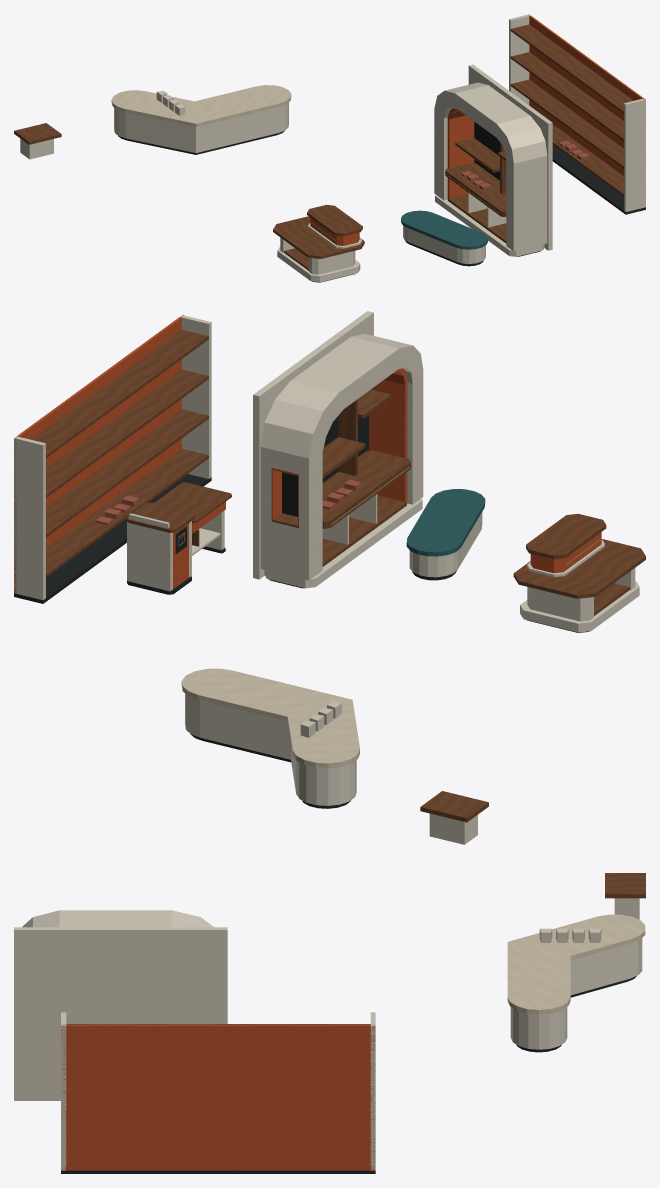
The model's file is SHOP_D09_P72_A184__fitout.glb.
The picture shows the model from 3 angles, top to bottom: view 1: azimuth 30°, elevation 25°; view 2: azimuth 150°, elevation 25°; view 3: azimuth 270°, elevation 25°; orthographic projection. The views are drawn at different scales.
Visible parts, largest first — view 1: SHOP_D09_P72_A184__fitout__ivory_enamel, SHOP_D09_P72_A184__fitout__warm_walnut, SHOP_D09_P72_A184__fitout__retail_terracotta_enamel, SHOP_D09_P72_A184__fitout__warm_stone, SHOP_D09_P72_A184__fitout__dark_rubber, SHOP_D09_P72_A184__fitout__teal_weave, SHOP_D09_P72_A184__fitout__clay_weave; view 2: SHOP_D09_P72_A184__fitout__ivory_enamel, SHOP_D09_P72_A184__fitout__warm_walnut, SHOP_D09_P72_A184__fitout__retail_terracotta_enamel, SHOP_D09_P72_A184__fitout__warm_stone, SHOP_D09_P72_A184__fitout__dark_rubber, SHOP_D09_P72_A184__fitout__teal_weave, SHOP_D09_P72_A184__fitout__clay_weave; view 3: SHOP_D09_P72_A184__fitout__retail_terracotta_enamel, SHOP_D09_P72_A184__fitout__ivory_enamel, SHOP_D09_P72_A184__fitout__warm_stone, SHOP_D09_P72_A184__fitout__dark_rubber, SHOP_D09_P72_A184__fitout__warm_walnut.
Boxes of the visible parts, x1,y1,x2,y2 form: SHOP_D09_P72_A184__fitout__ivory_enamel: (20,14,645,282); SHOP_D09_P72_A184__fitout__warm_walnut: (14,24,633,270); SHOP_D09_P72_A184__fitout__retail_terracotta_enamel: (310,14,645,245); SHOP_D09_P72_A184__fitout__warm_stone: (111,85,291,126); SHOP_D09_P72_A184__fitout__dark_rubber: (118,121,645,282); SHOP_D09_P72_A184__fitout__teal_weave: (401,210,487,249); SHOP_D09_P72_A184__fitout__clay_weave: (461,140,589,190); SHOP_D09_P72_A184__fitout__ivory_enamel: (14,311,639,844); SHOP_D09_P72_A184__fitout__warm_walnut: (32,329,645,822); SHOP_D09_P72_A184__fitout__retail_terracotta_enamel: (14,315,601,593); SHOP_D09_P72_A184__fitout__warm_stone: (181,668,359,768); SHOP_D09_P72_A184__fitout__dark_rubber: (14,415,589,808); SHOP_D09_P72_A184__fitout__teal_weave: (406,489,485,556); SHOP_D09_P72_A184__fitout__clay_weave: (95,479,361,525); SHOP_D09_P72_A184__fitout__retail_terracotta_enamel: (61,1024,375,1170); SHOP_D09_P72_A184__fitout__ivory_enamel: (14,898,642,1170); SHOP_D09_P72_A184__fitout__warm_stone: (507,914,645,1014); SHOP_D09_P72_A184__fitout__dark_rubber: (61,976,636,1173); SHOP_D09_P72_A184__fitout__warm_walnut: (66,873,645,1024).
Bounding box in the file's own units: 10.25 × 3 × 10.05.
8 materials, 8 textured.
